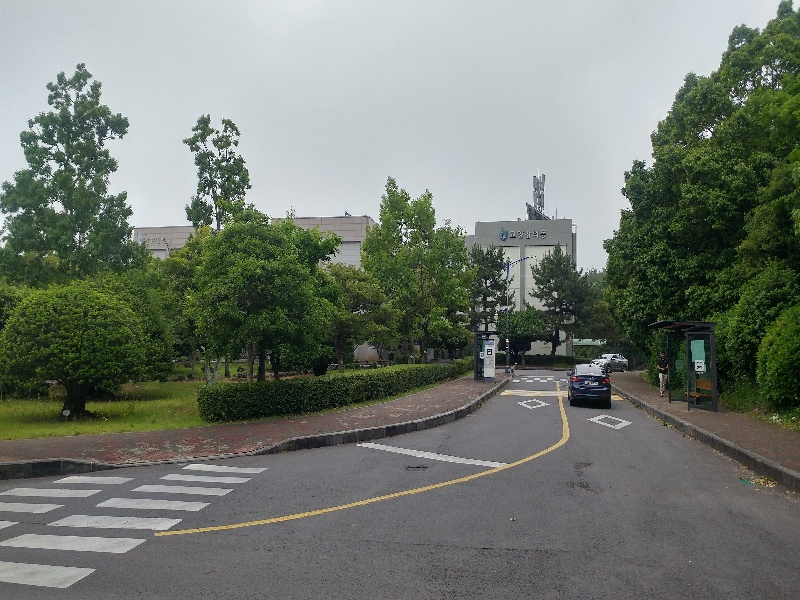College of Nursing: (133, 225, 207, 262)
Cultural lecture hall: (470, 218, 575, 371), (496, 223, 554, 246)
